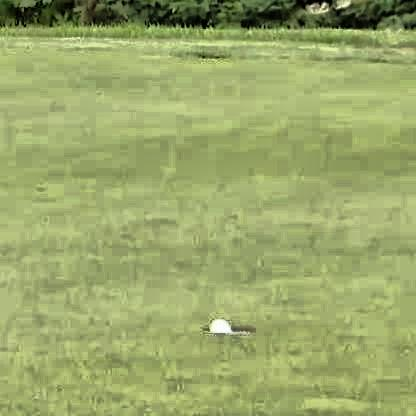golfball: (206, 315, 229, 333)
